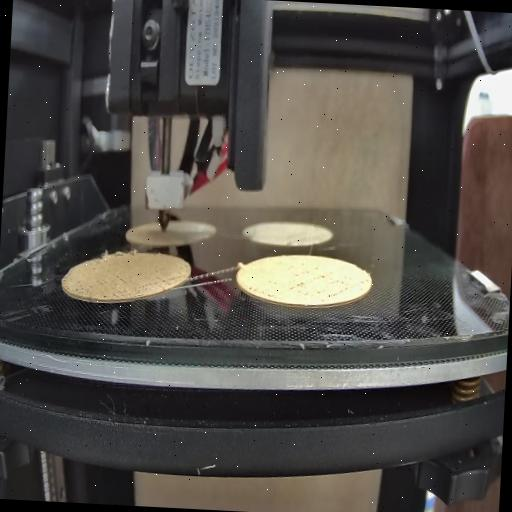under_extrusion: (288, 262, 356, 304), (72, 274, 132, 302), (140, 274, 178, 292), (248, 284, 274, 301)
